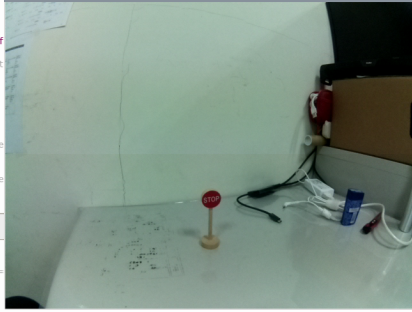Stop: (199, 189, 223, 209)
